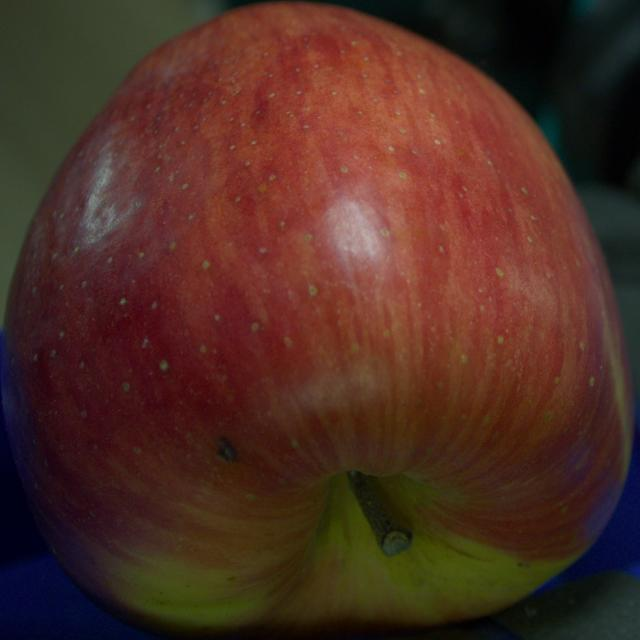apple: (1, 3, 633, 639)
pest: (218, 438, 238, 462)
